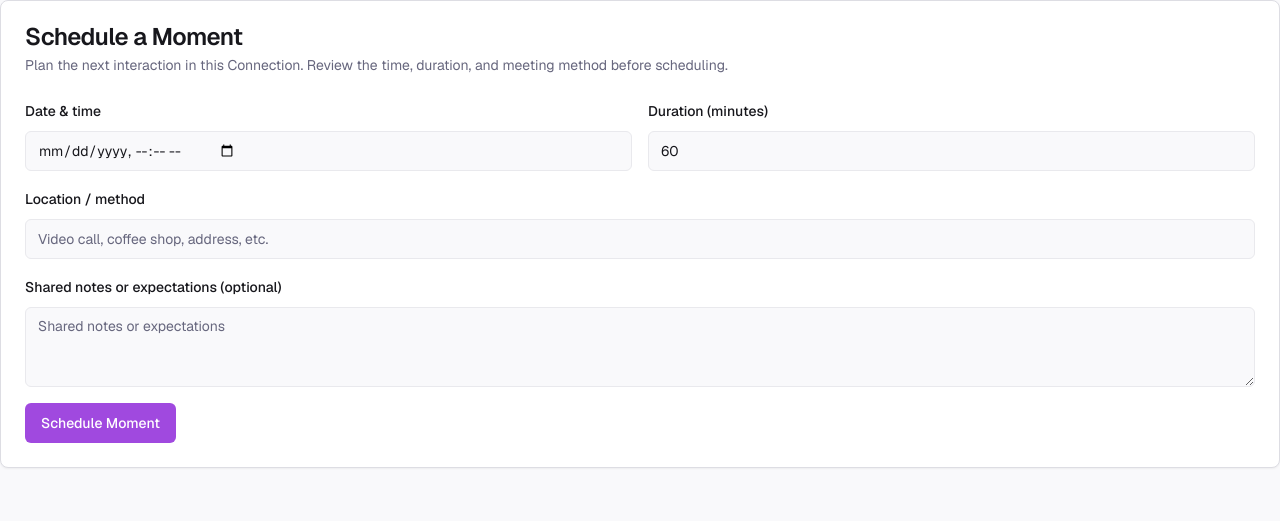
Test case: MomentScheduler › preserves returned server failures and restores scheduling controls
This screenshot has width=1280, height=521.
Type "2026-12-10T10:00" into the field labelled "Date & time" at (328, 151), box [25,131,632,171]
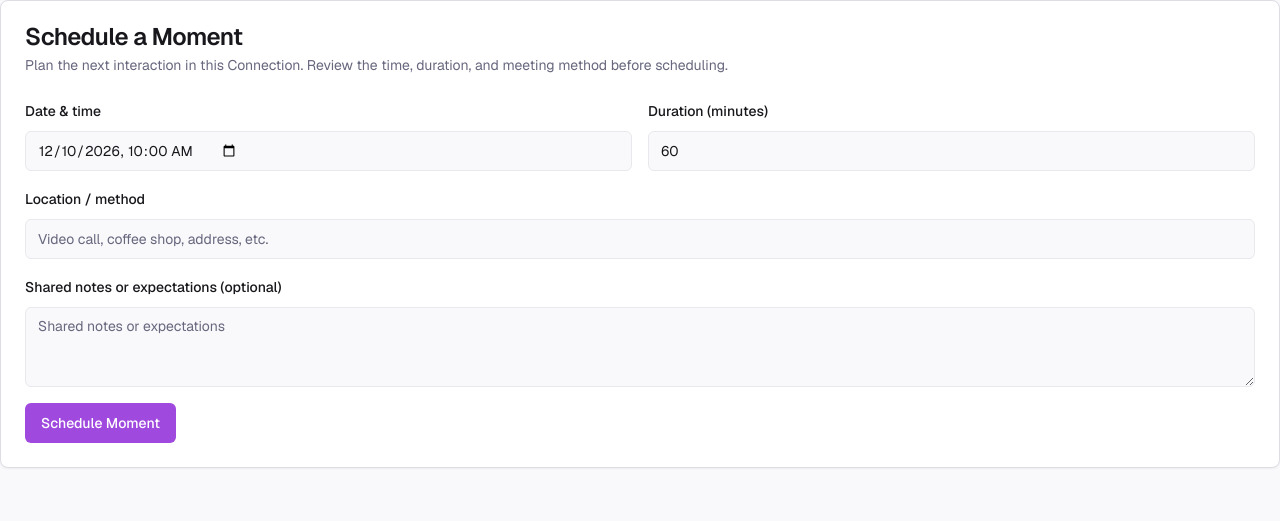
Click the button "Schedule Moment" at (100, 423), box [25,403,176,443]
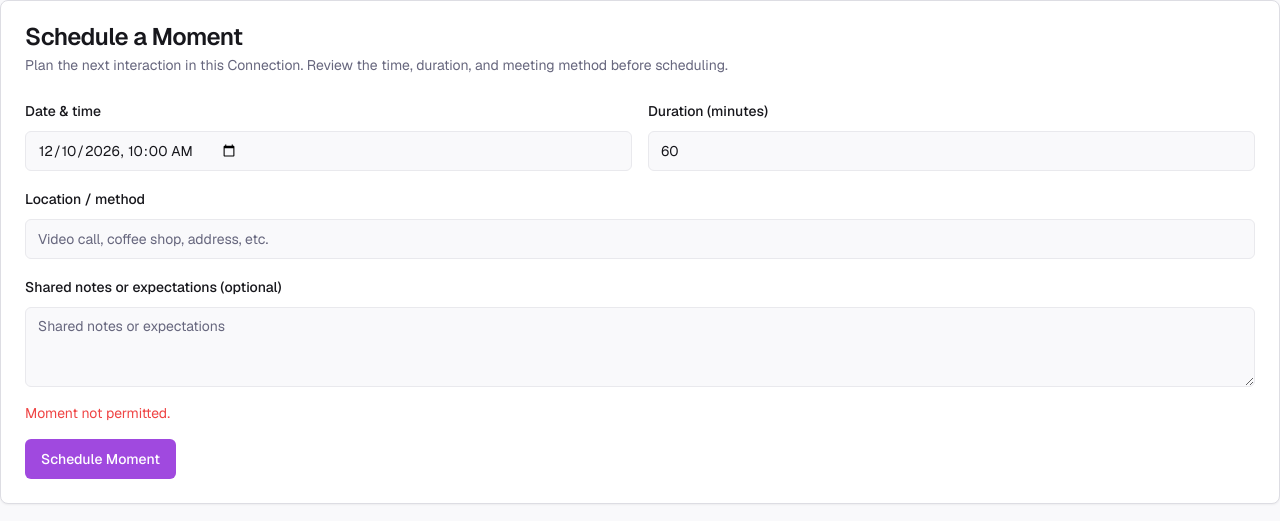
Expected: the button "Schedule Moment" is enabled, [25,439,176,479]
Expected: the message reads "Moment not permitted.", [25,404,170,422]
